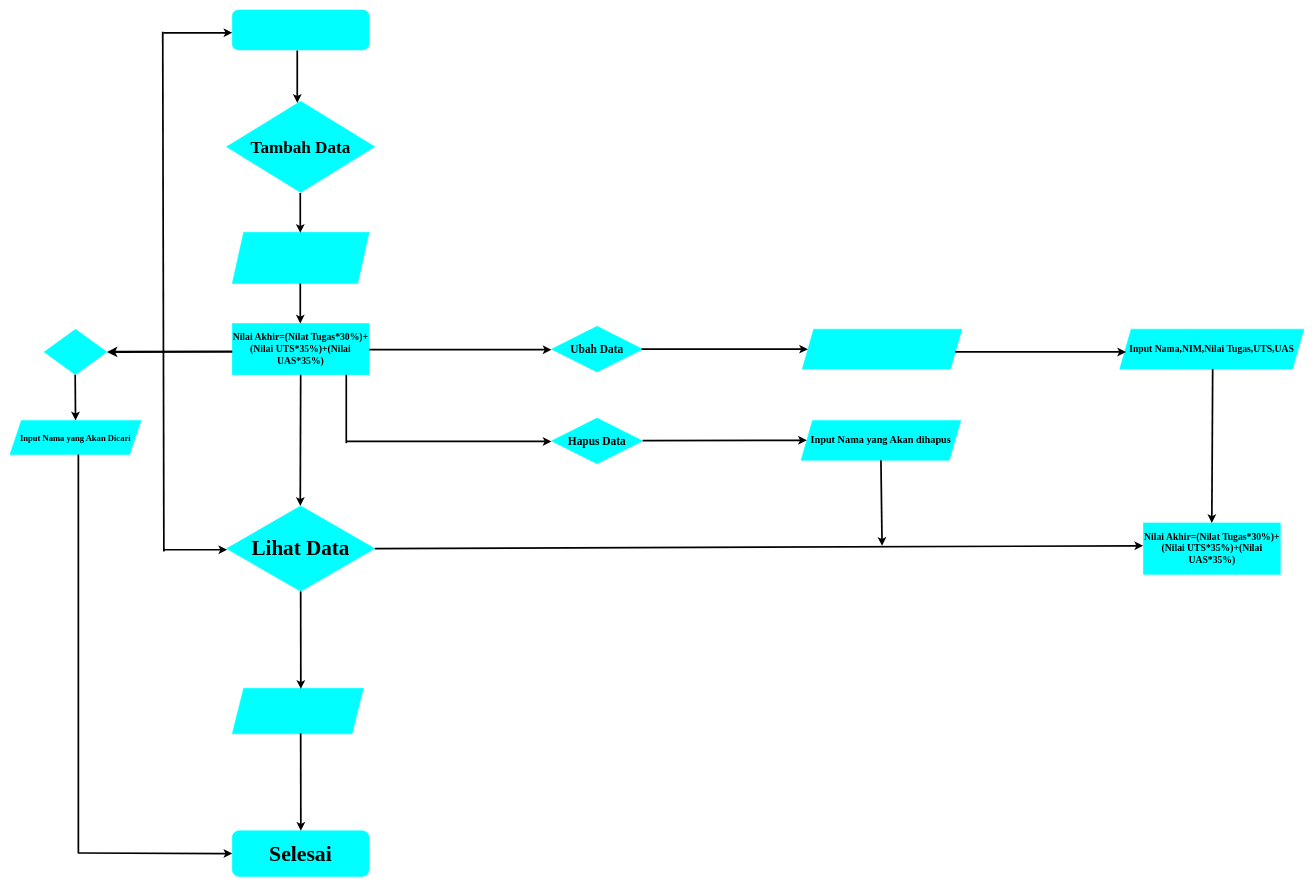
Some shapes in this 1314 by 886 pixel diagram are drawn without their labels. Here are the shapes that lost their labels. From the top down, the box of each, then its label:
(232, 9, 369, 50): Mulai
(232, 232, 369, 284): Inputkan Nama,NIM,Nilai Tugas,UTS,UAS
(44, 329, 107, 375): Mencari Data
(802, 329, 962, 369): Input Nama yang Akan di Ubah
(232, 688, 363, 734): Output Data
